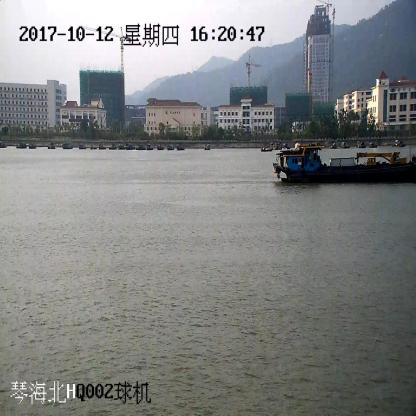Fishing Boat: (273, 144, 415, 186)
